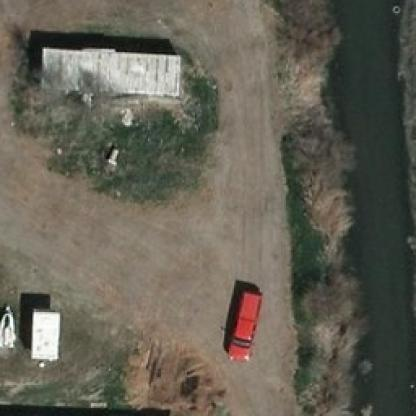car: (224, 282, 264, 362)
